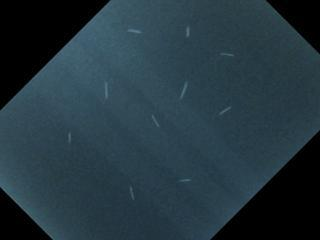scratch: (148, 110, 165, 130), (215, 104, 232, 118), (179, 79, 189, 99), (217, 51, 238, 60), (128, 181, 137, 200), (103, 80, 110, 101), (126, 26, 143, 34), (176, 177, 193, 184), (67, 130, 74, 146), (185, 26, 191, 39)
